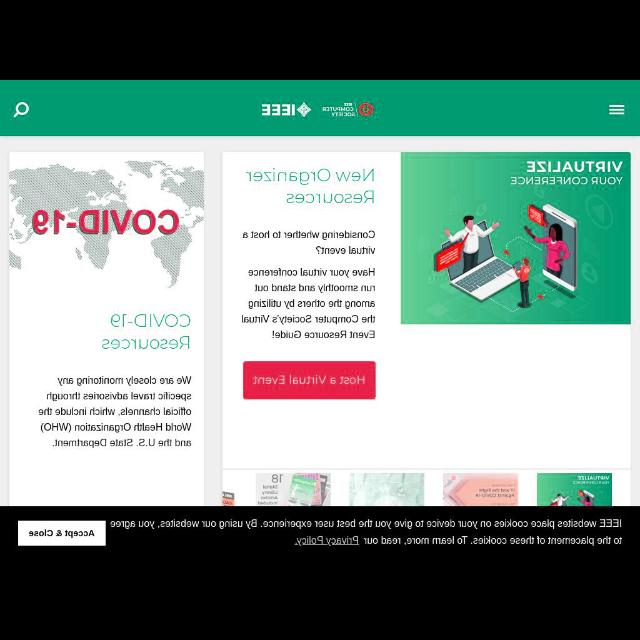icon: (14, 102, 28, 118), (610, 104, 624, 115)
image: (400, 153, 630, 325), (9, 151, 203, 289), (537, 474, 611, 506), (444, 474, 516, 506), (348, 474, 424, 504), (256, 474, 330, 504), (322, 100, 372, 118), (297, 103, 311, 117)
text: (111, 518, 624, 546), (38, 374, 192, 448), (242, 268, 374, 338), (247, 168, 375, 204), (242, 230, 376, 256), (101, 314, 191, 348), (252, 374, 366, 386), (29, 529, 95, 539), (263, 105, 295, 115)
textbutton: (243, 362, 374, 398), (18, 520, 106, 546)
toolbar: (1, 82, 639, 136)
